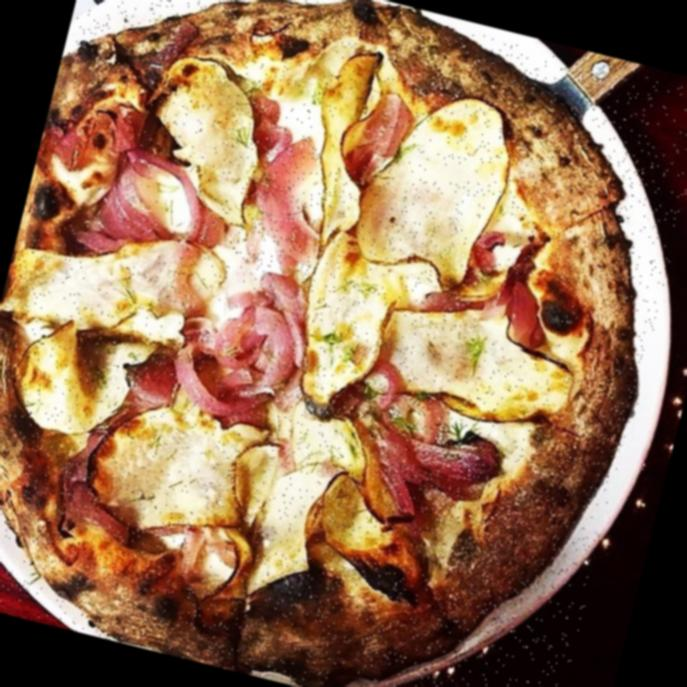Ham: (322, 376, 499, 539), (174, 275, 316, 433), (226, 120, 347, 275), (73, 148, 201, 263), (320, 79, 416, 176), (482, 272, 568, 358)
Pizza: (0, 0, 687, 687)
